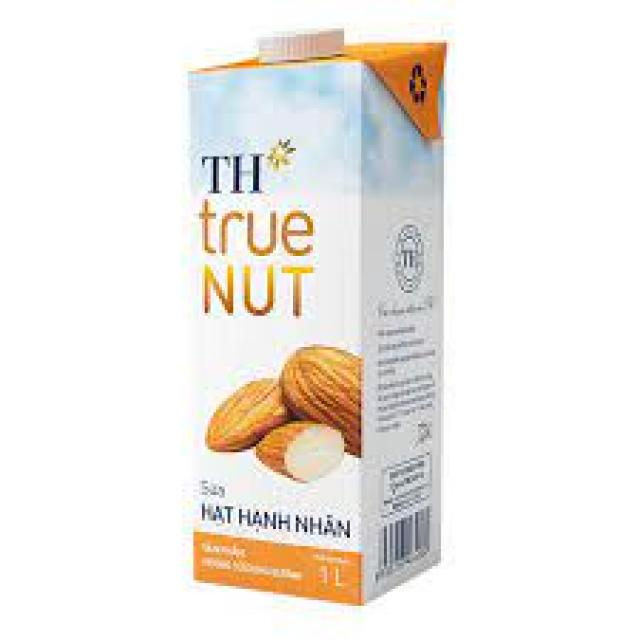non_white_jug: (165, 17, 458, 603)
